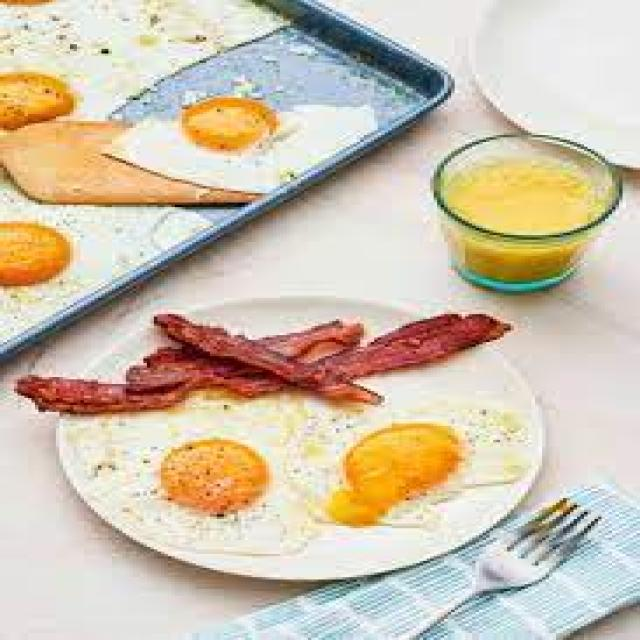Bacon: (154, 314, 379, 403), (317, 314, 509, 378), (15, 379, 188, 413), (255, 320, 363, 357)
Egg: (225, 417, 537, 578), (61, 420, 314, 573), (105, 97, 376, 193), (0, 185, 116, 342)
